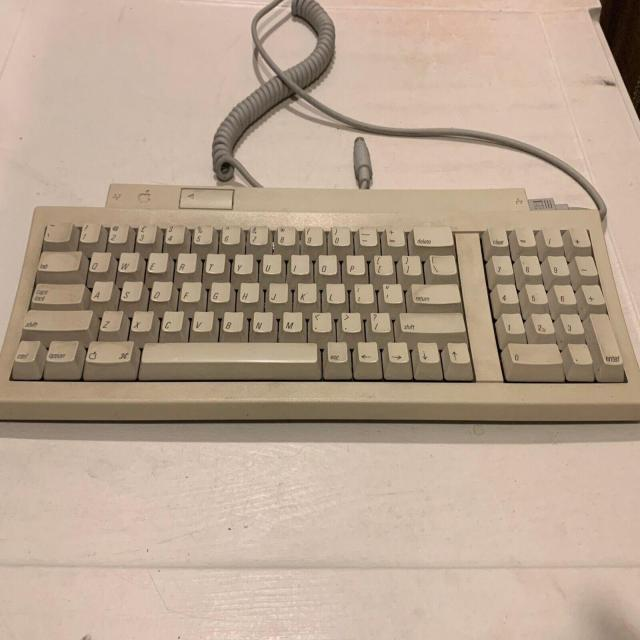keyboard: (0, 200, 640, 422)
